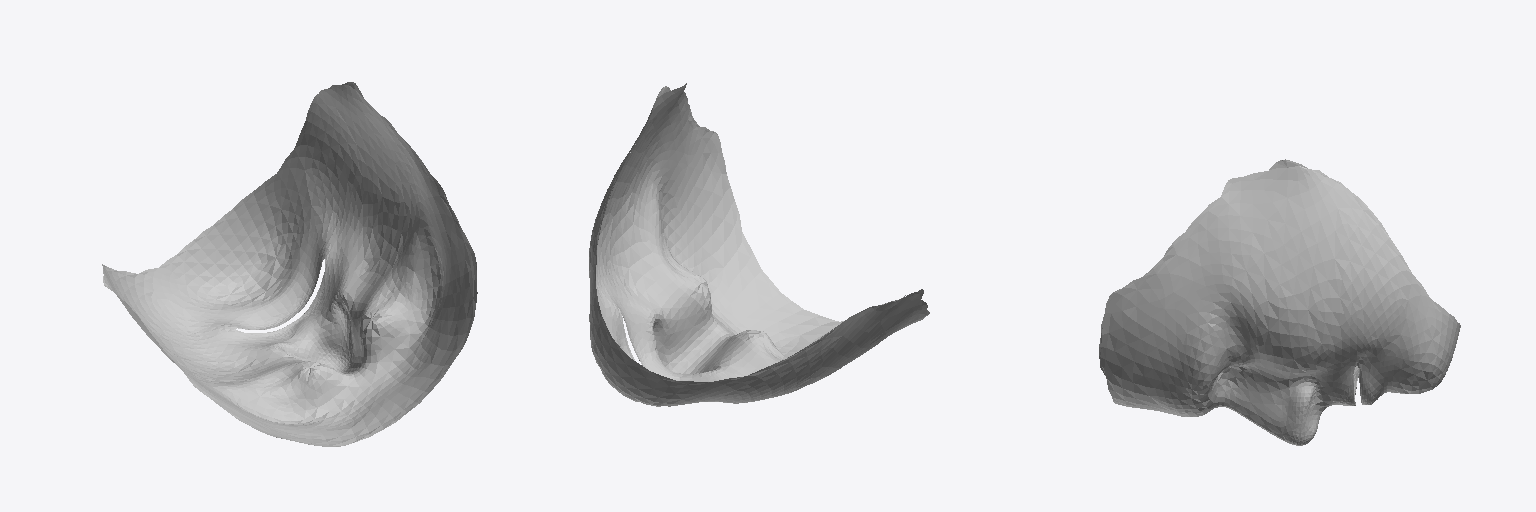
The model's file is face_gab_sfm118.obj.
3 renders of one model, left to right at view 1: azimuth 30°, elevation 25°; view 2: azimuth 150°, elevation 25°; view 3: azimuth 270°, elevation 25°, orthographic.
Size of the model in its own units: 164 by 160 by 180.